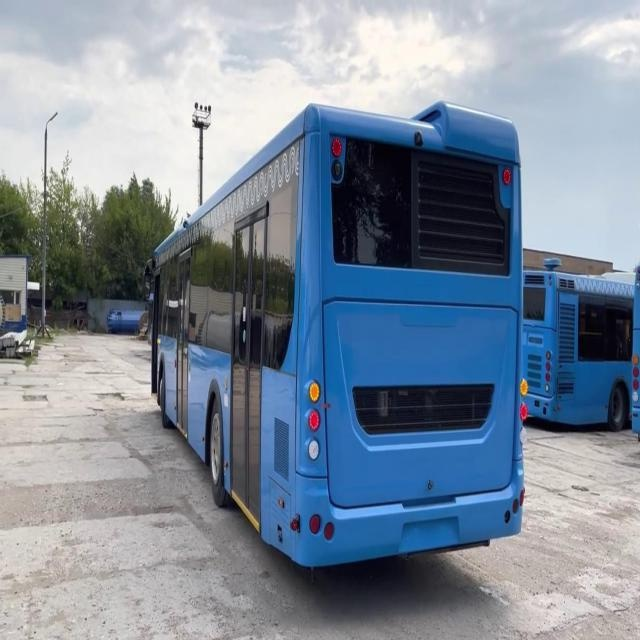bus: (113, 70, 551, 582), (524, 233, 630, 454)
